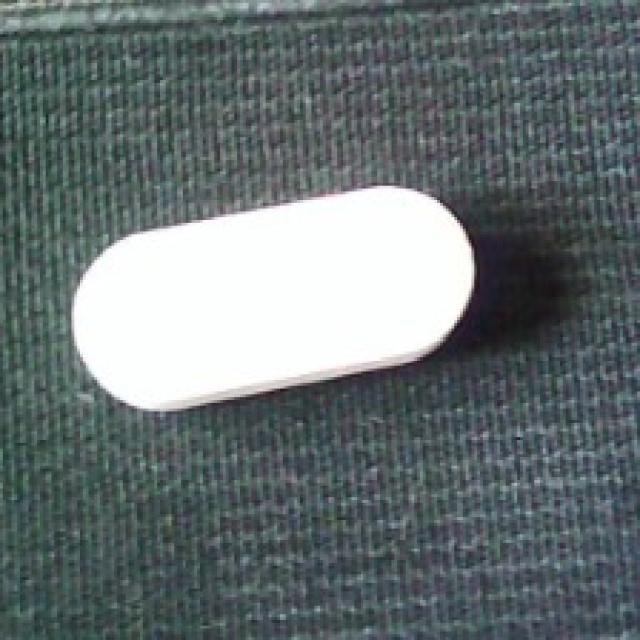no-defect: (69, 182, 474, 412)
